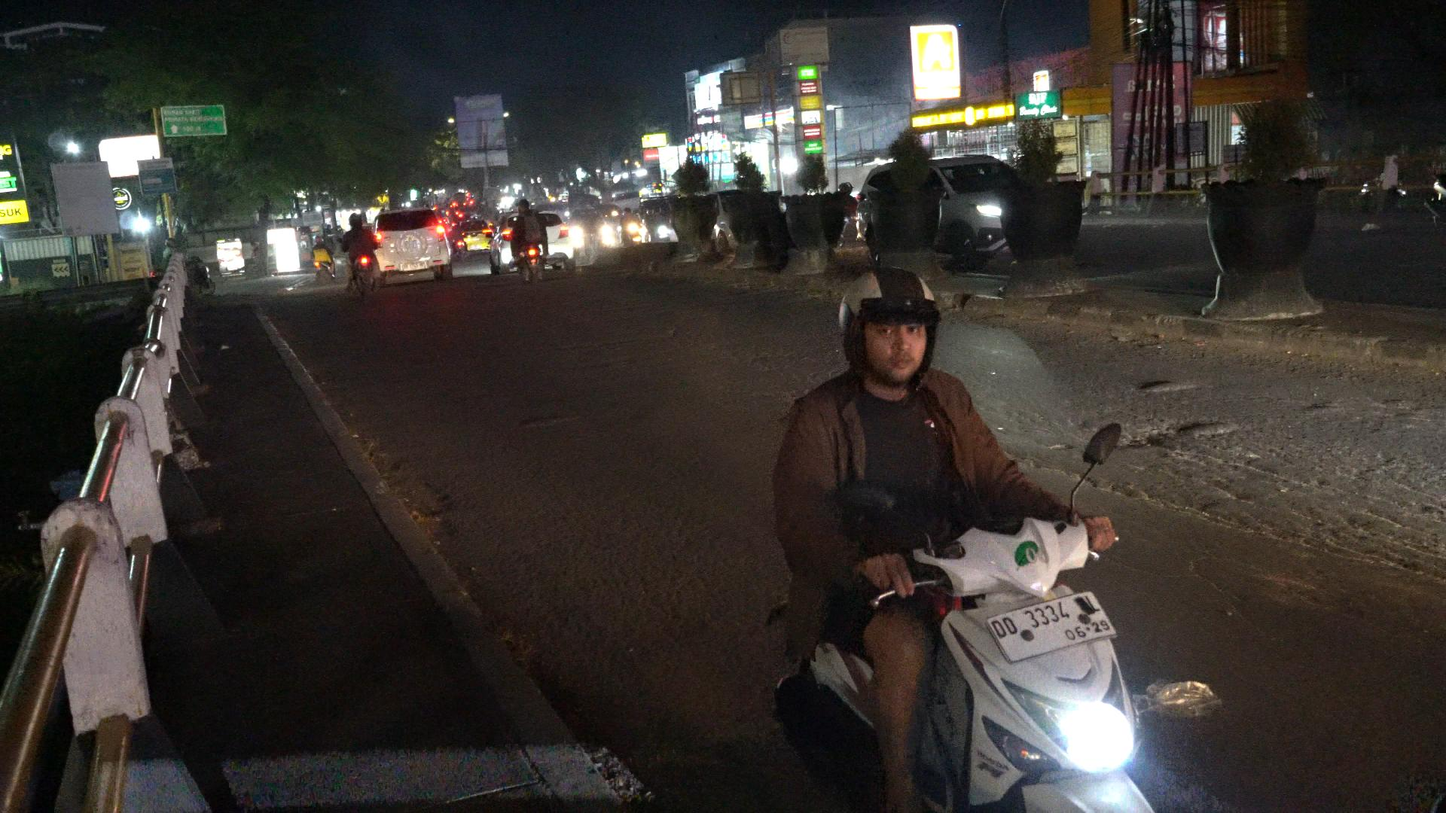number-plate: (987, 584, 1119, 657)
